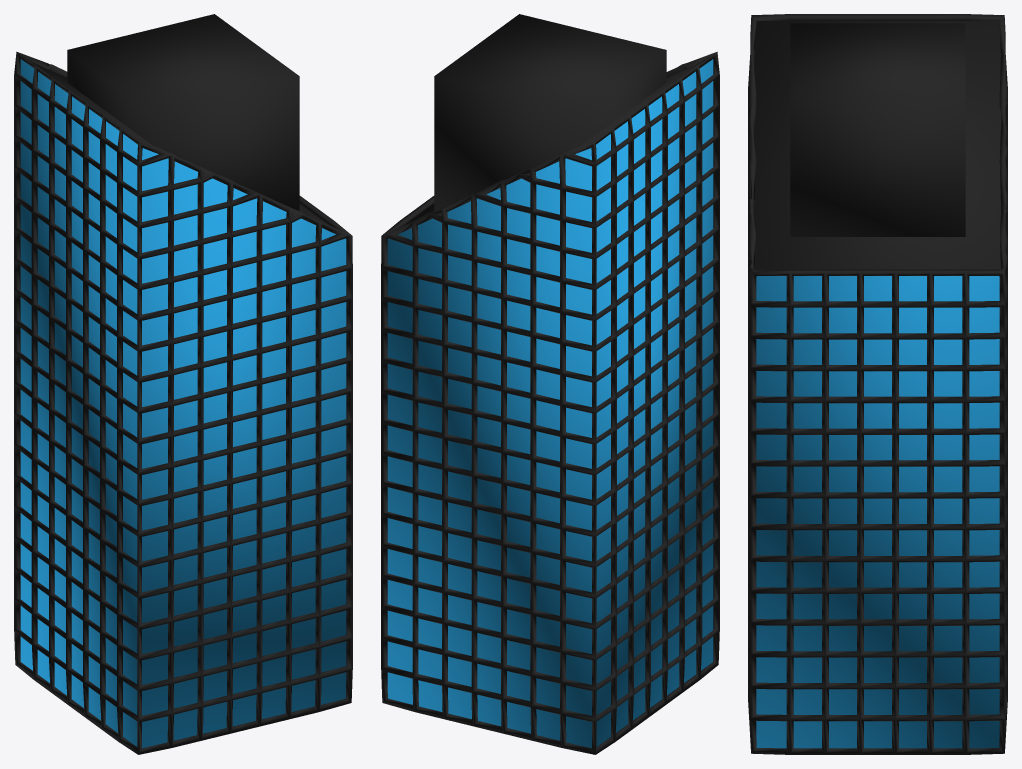
The model's file is skyscraper.glb.
3 renders of one model, left to right at view 1: azimuth 30°, elevation 25°; view 2: azimuth 150°, elevation 25°; view 3: azimuth 270°, elevation 25°, orthographic. The views are drawn at different scales.
Visible parts, largest first — view 1: Cube, Cube.001, Cube.003; view 2: Cube, Cube.001, Cube.003; view 3: Cube, Cube.001, Cube.003.
Part boxes in pixels (left/top/right/bottom): Cube: left=20, top=59, right=346, bottom=748; Cube.001: left=14, top=51, right=352, bottom=754; Cube.003: left=67, top=14, right=299, bottom=210; Cube: left=387, top=59, right=713, bottom=748; Cube.001: left=381, top=51, right=719, bottom=754; Cube.003: left=434, top=14, right=666, bottom=211; Cube: left=755, top=21, right=1000, bottom=748; Cube.001: left=748, top=14, right=1007, bottom=754; Cube.003: left=790, top=23, right=965, bottom=236.
Bounding box in the file's own units: 7.4 × 20.2 × 7.4.
Materials: 2 (2 with a texture image).
